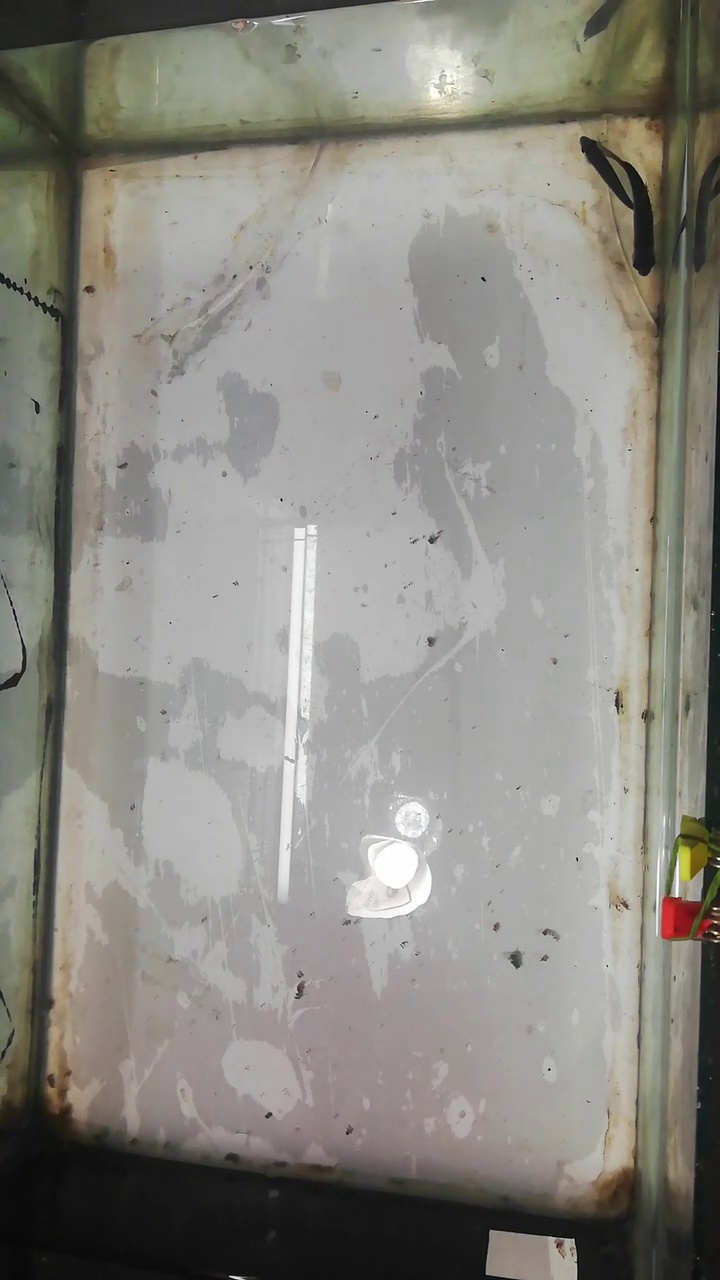fish1: (619, 154, 659, 275)
fish2: (578, 137, 632, 213)
